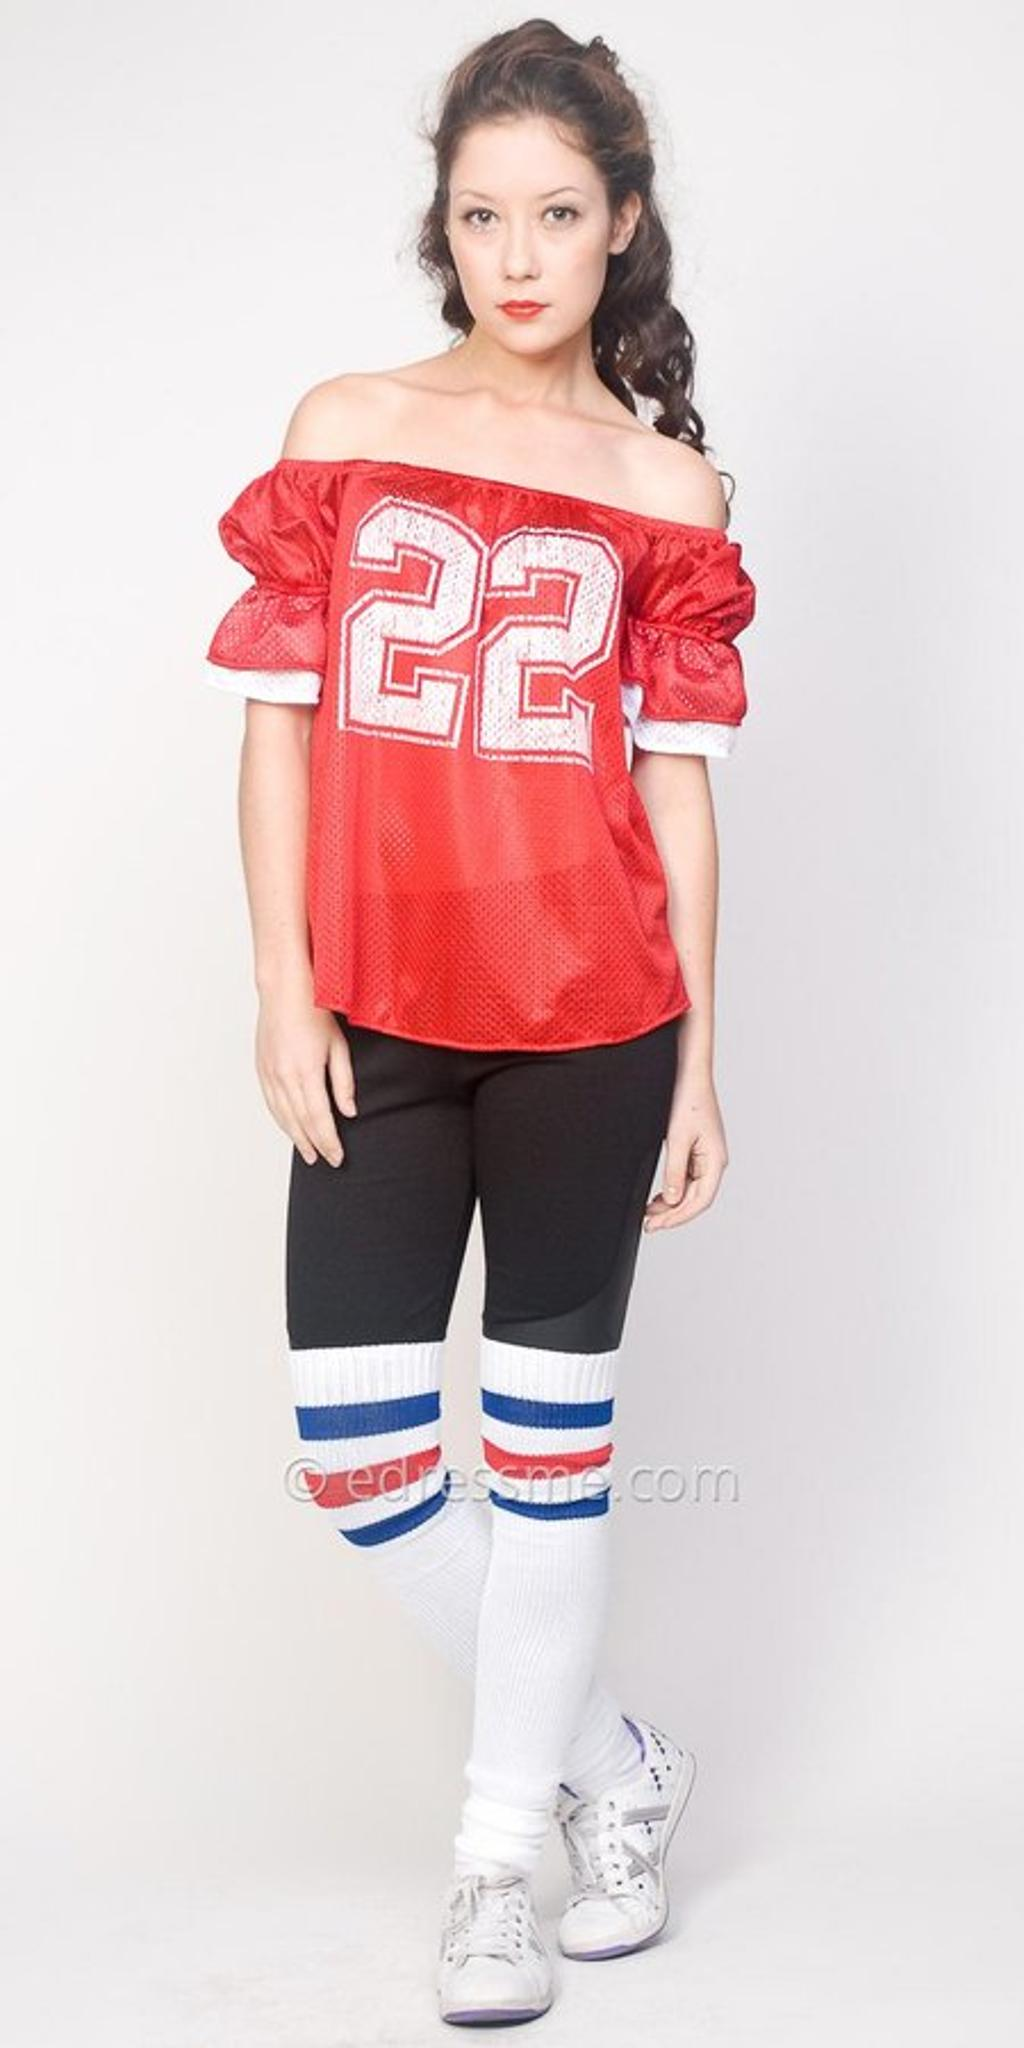face: (444, 116, 612, 352)
